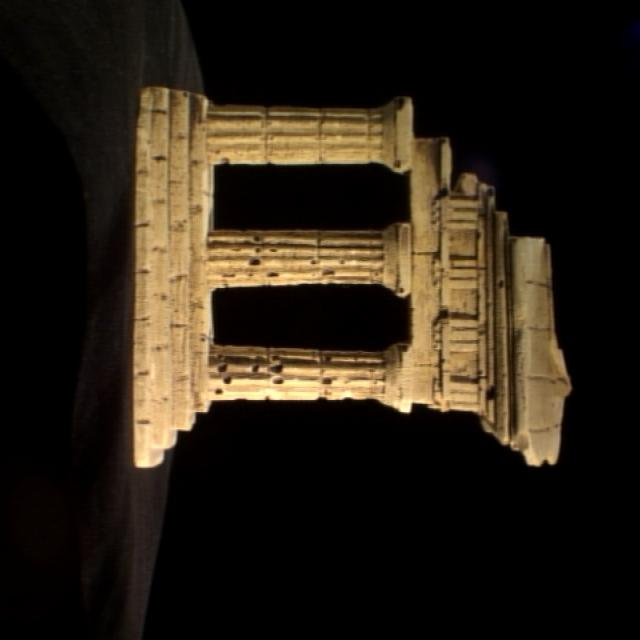Instance-Segmentation: (132, 87, 569, 464)
